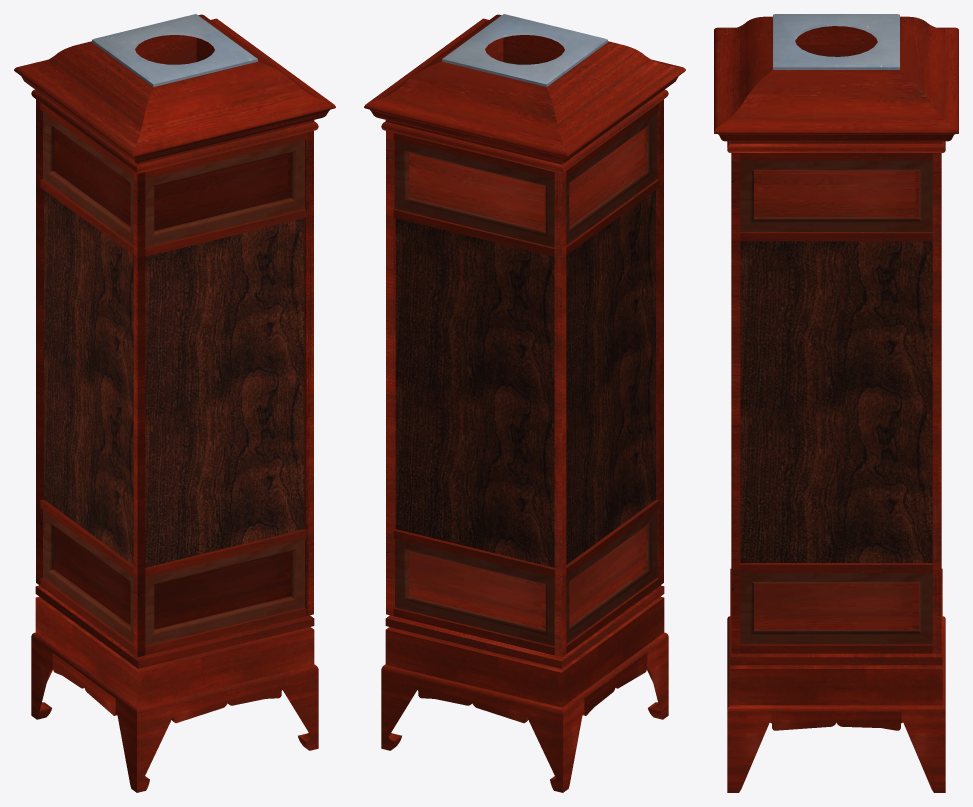
3 views of the same model, side by side, from view 1: azimuth 30°, elevation 25°; view 2: azimuth 150°, elevation 25°; view 3: azimuth 270°, elevation 25° (orthographic). The views are drawn at different scales.
Parts seen in each view (by area): view 1: 좌등; view 2: 좌등; view 3: 좌등.
Part boxes in pixels (x1,y1,x2,y2): 좌등: [14, 14, 335, 792]; 좌등: [364, 14, 685, 792]; 좌등: [714, 14, 958, 792].
Bounding box in the file's own units: 12.91 × 41.51 × 13.02.
